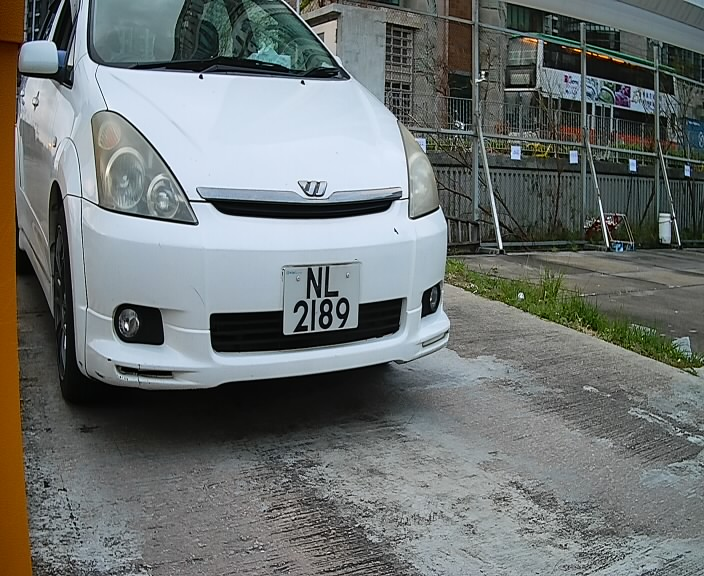License Plate: (276, 258, 367, 347)
